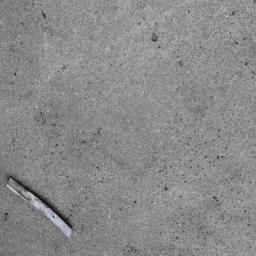FOD: (3, 173, 76, 241)
